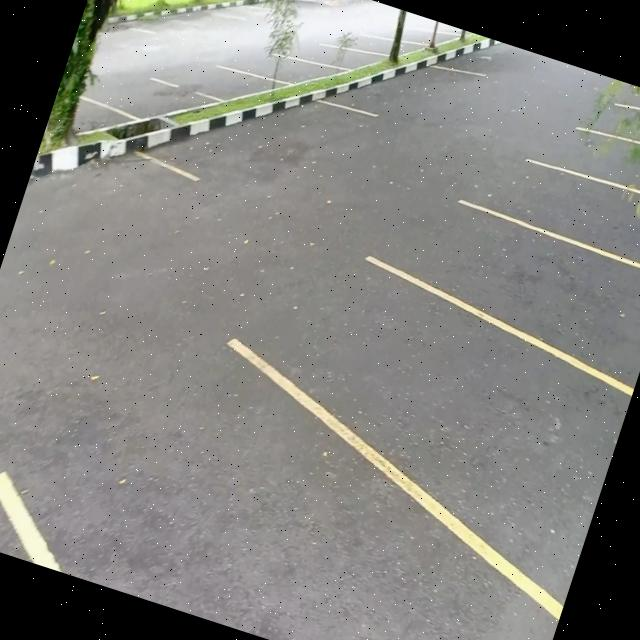empty: (334, 294, 640, 586), (437, 204, 640, 371), (517, 157, 640, 276), (368, 44, 486, 146), (573, 123, 640, 215), (184, 58, 262, 112), (116, 70, 183, 130), (298, 32, 378, 78), (251, 48, 324, 96)
